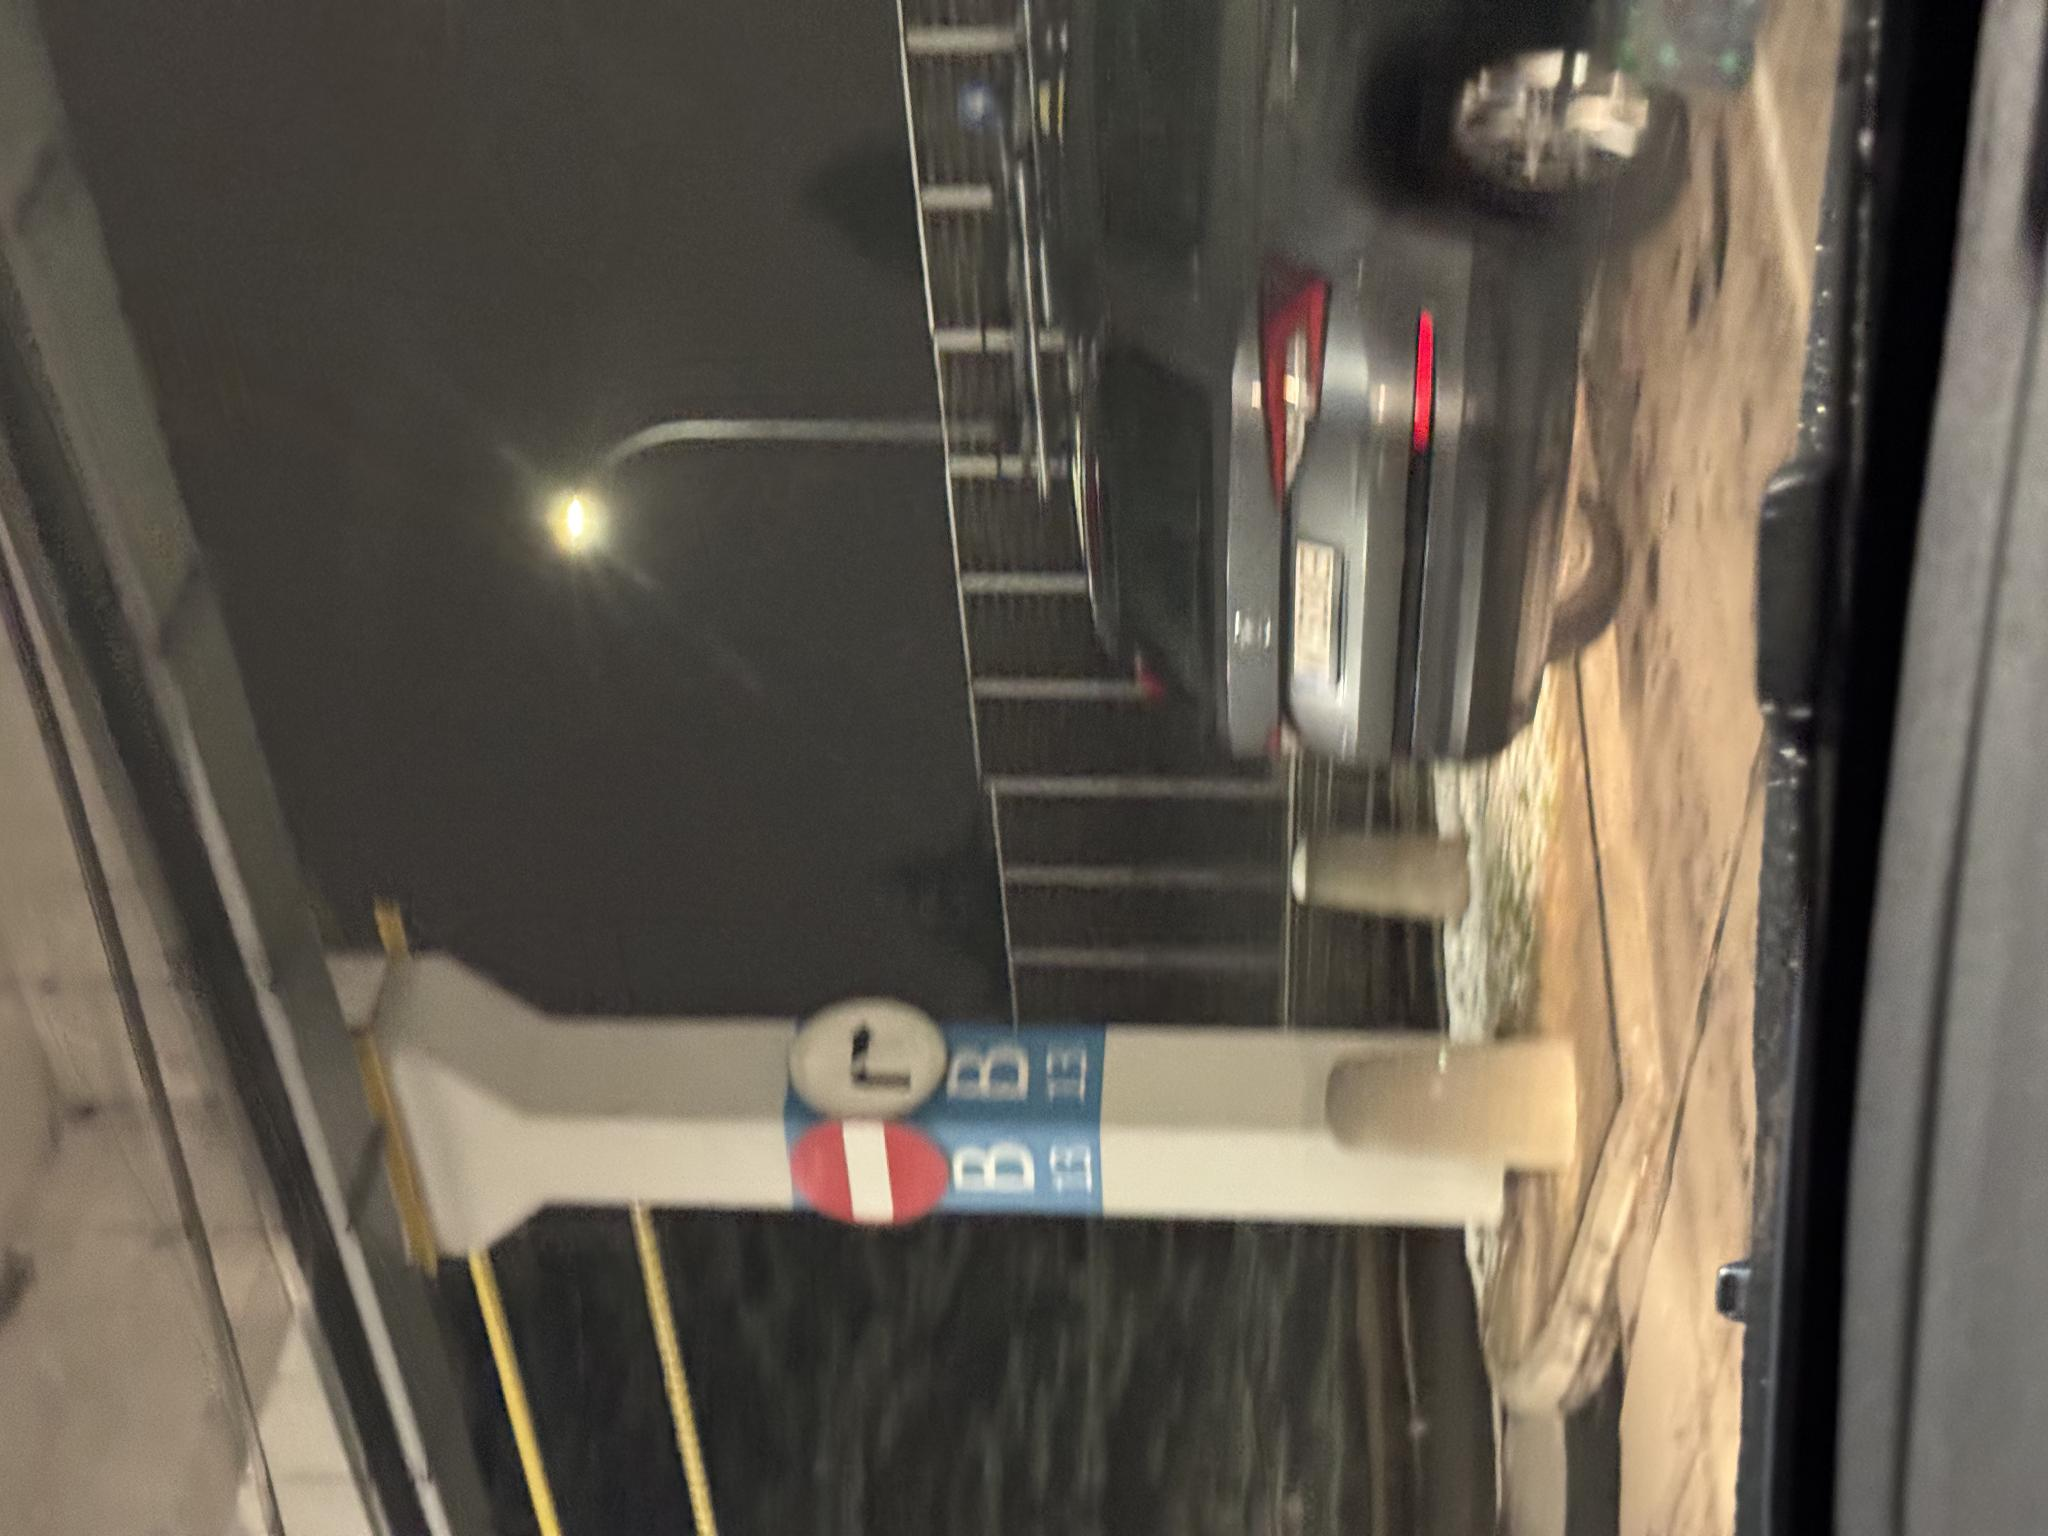prohibitory: (418, 787, 545, 950), (308, 787, 416, 949)
